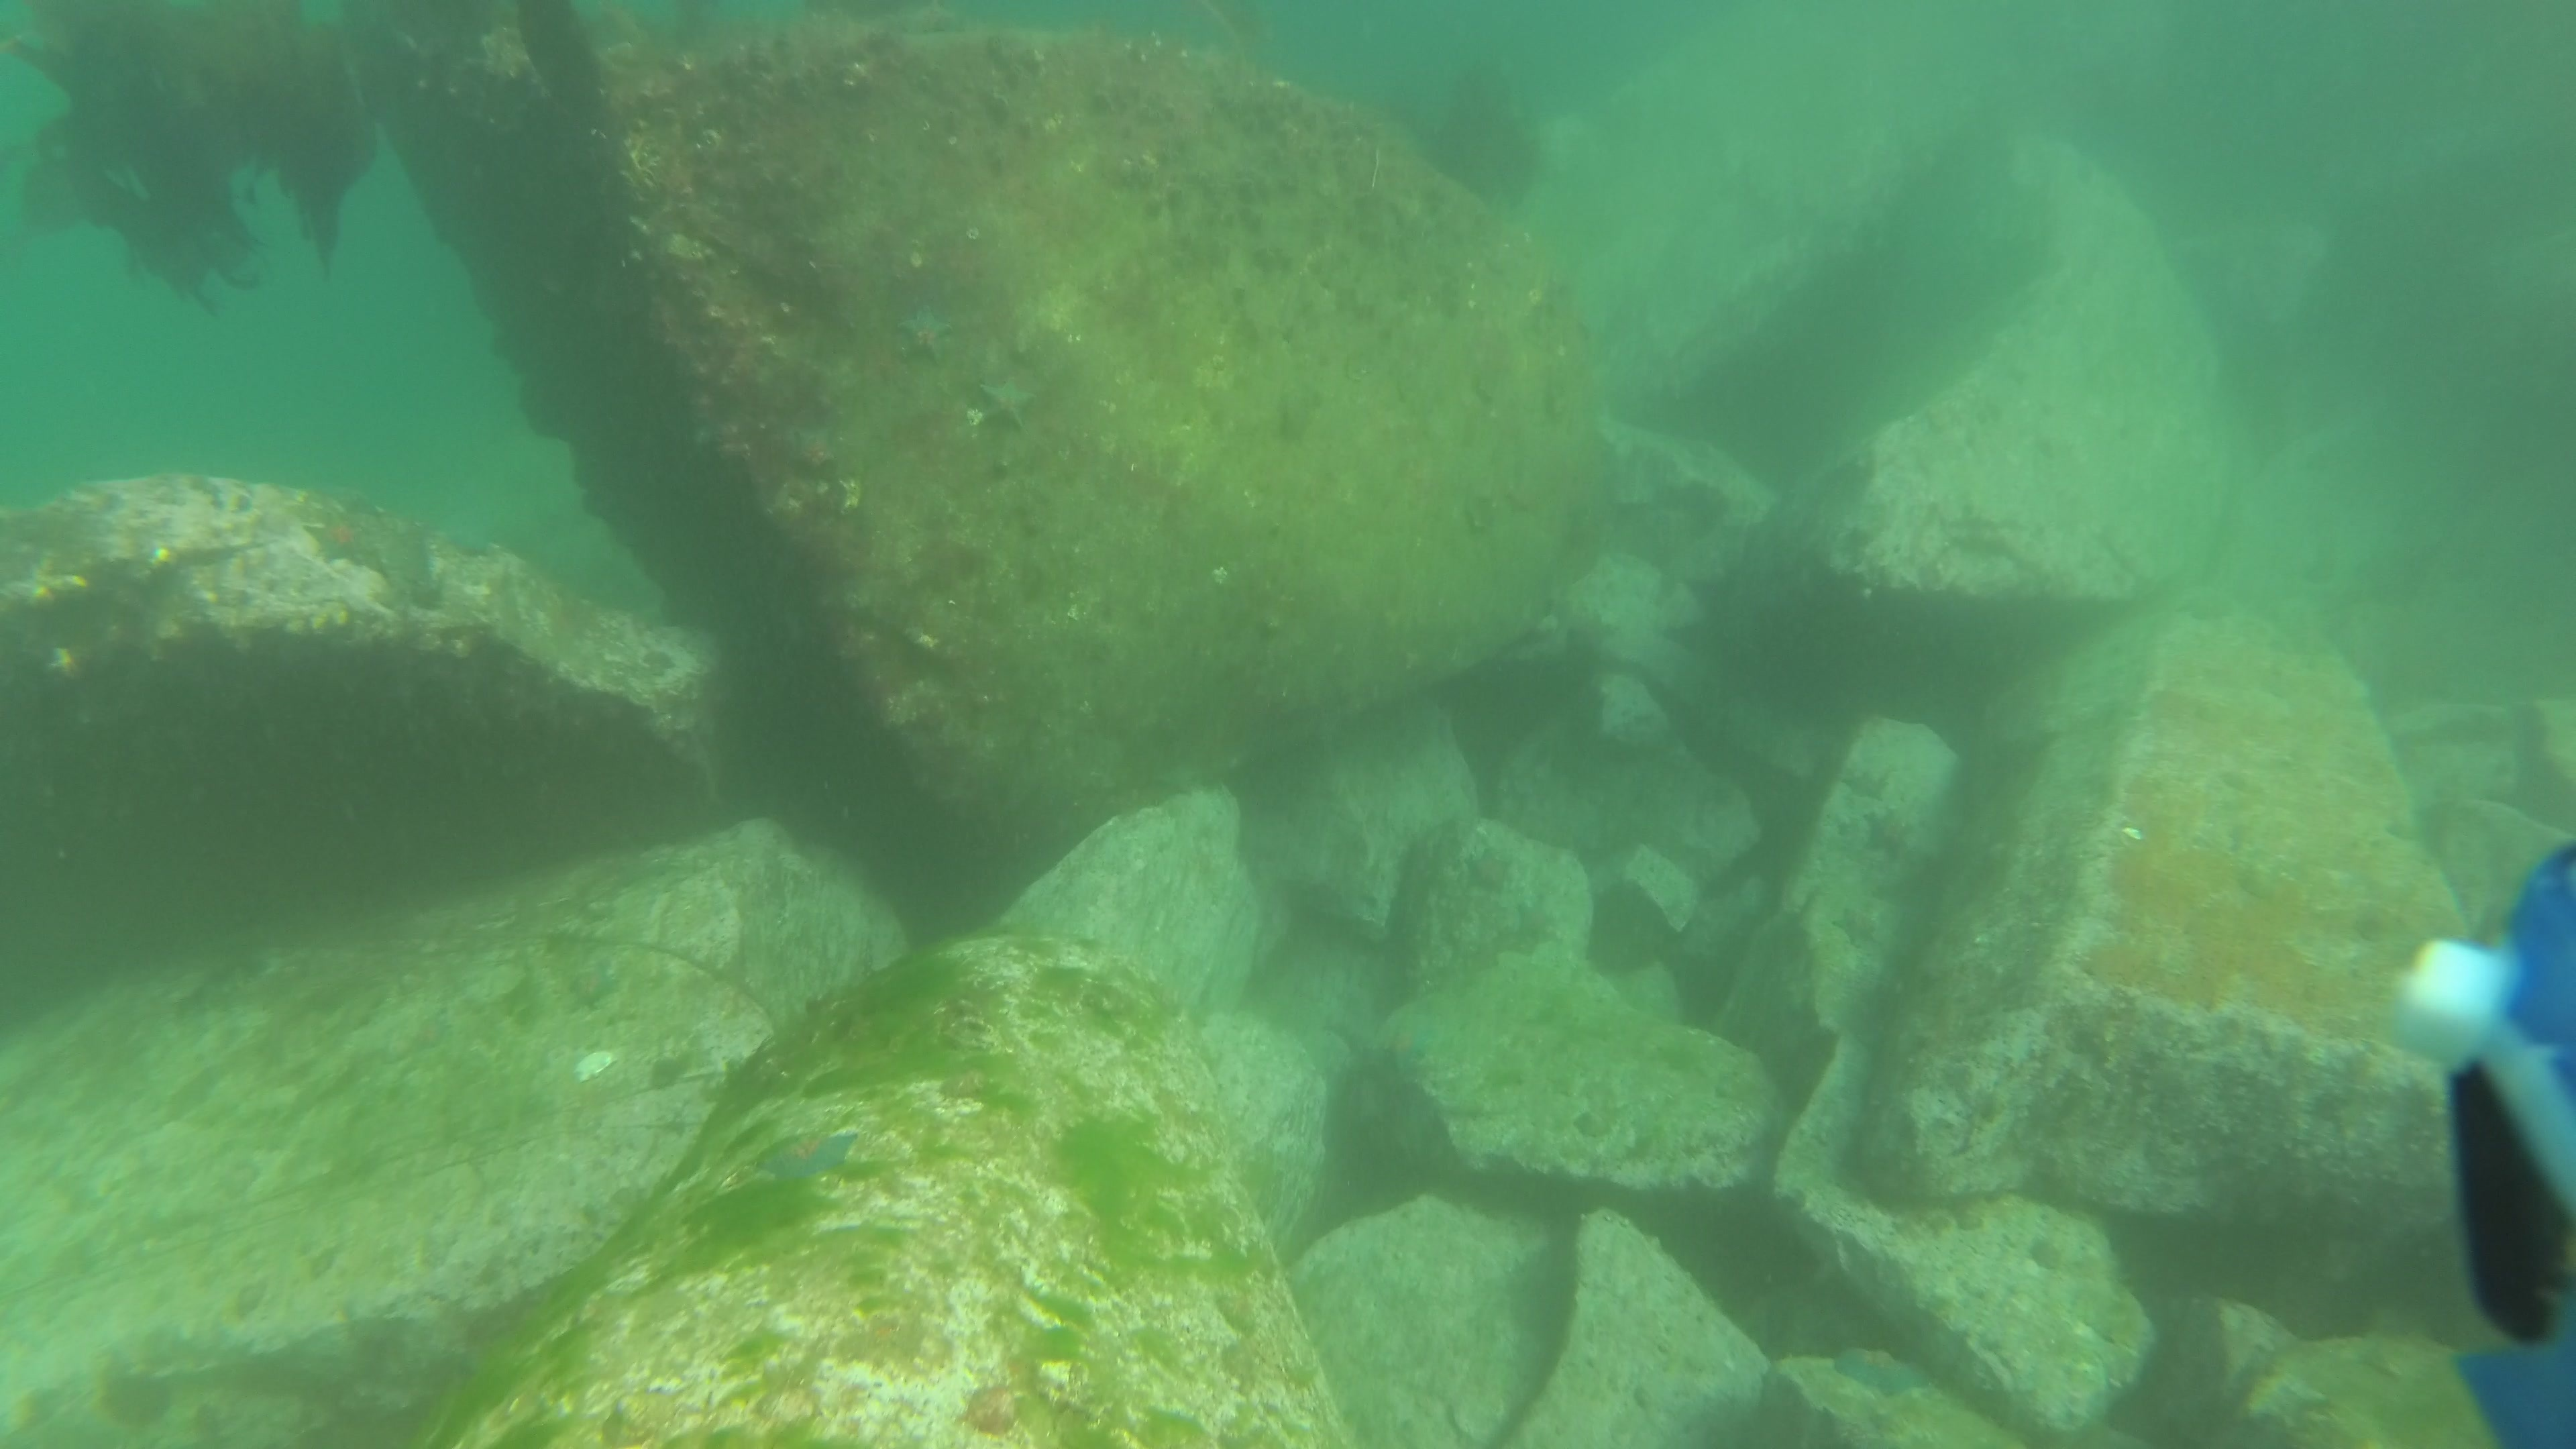starfish: (750, 1125, 863, 1189), (1828, 1343, 1936, 1401), (299, 508, 377, 570), (977, 368, 1040, 439), (892, 299, 957, 366), (1458, 840, 1518, 897), (1514, 885, 1566, 948), (1384, 1017, 1435, 1081), (1859, 809, 1918, 863), (563, 962, 626, 1012), (1826, 904, 1884, 952), (1840, 763, 1895, 805), (407, 1012, 455, 1054)
